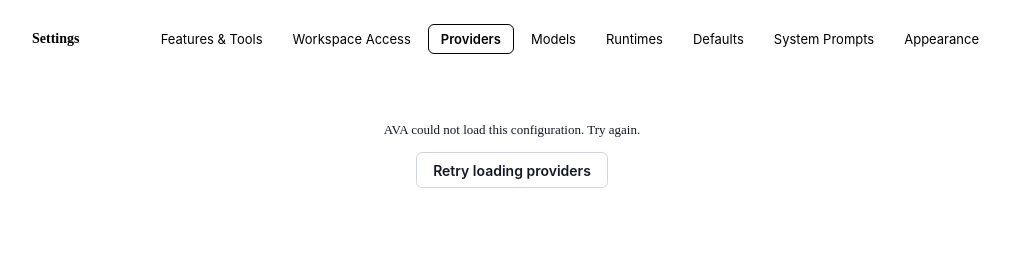
it: Settings error and retry › keeps one failure scoped to its own section
Expected: the message "AVA could not load this configuration. Try again. Retry loading providers" is shown, [384,122,640,188]
Click the tab "Models" at (553, 39), box [518,24,589,54]
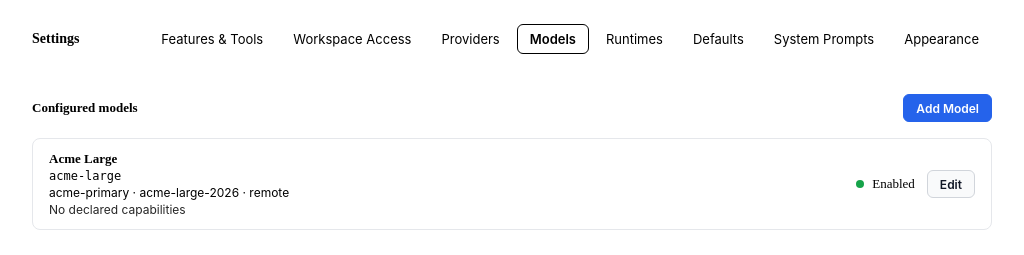
Expected: the text "Acme Large" is shown, [49,151,117,166]
Expected: the message with test id "settings-error" is gone
